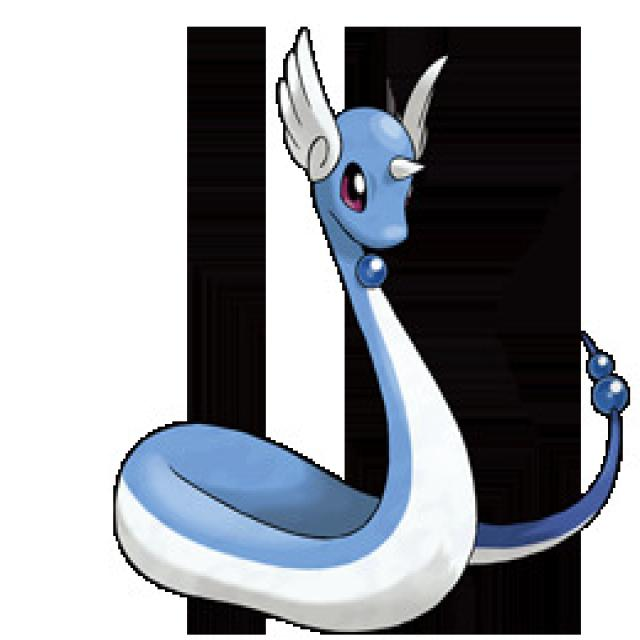Dragonair: (111, 39, 488, 618)
